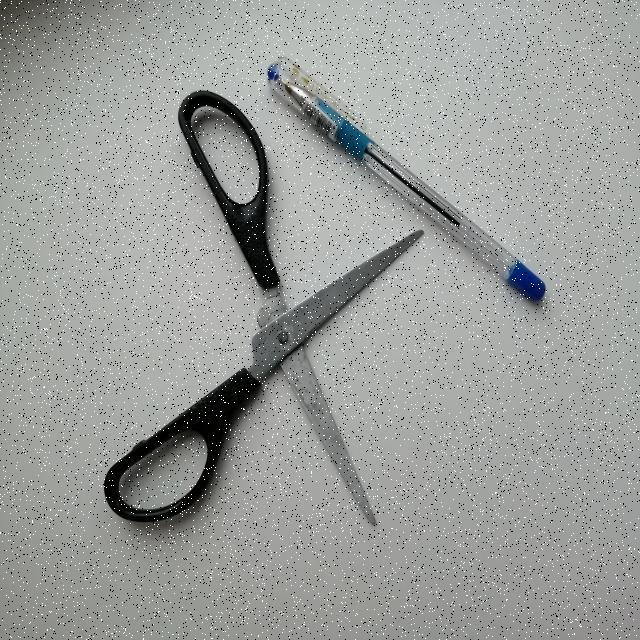scissors: (90, 62, 451, 614)
